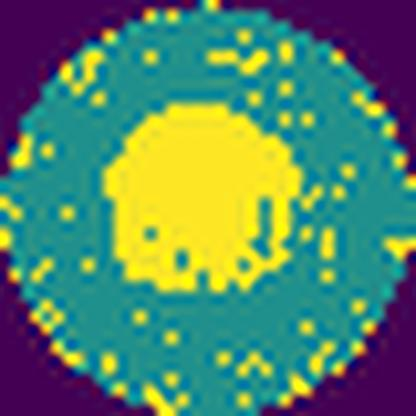Center: (104, 106, 305, 295)
